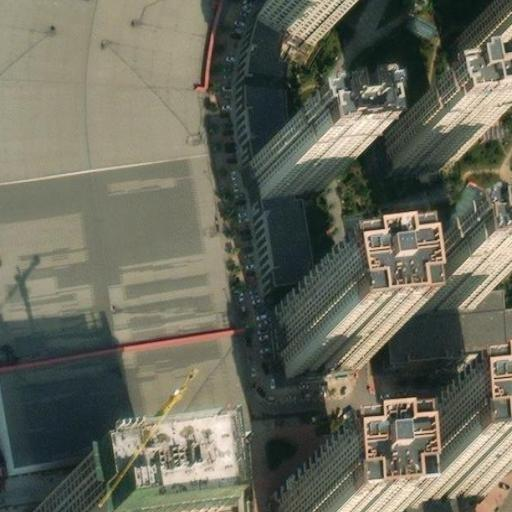building: (0, 0, 248, 463), (388, 281, 512, 356), (244, 0, 300, 162), (286, 286, 374, 367), (410, 407, 497, 488), (257, 174, 312, 277), (250, 141, 335, 196), (386, 111, 472, 162), (410, 253, 491, 306), (30, 483, 167, 512), (365, 482, 479, 512), (261, 0, 343, 38), (286, 477, 365, 512), (461, 15, 512, 69)
